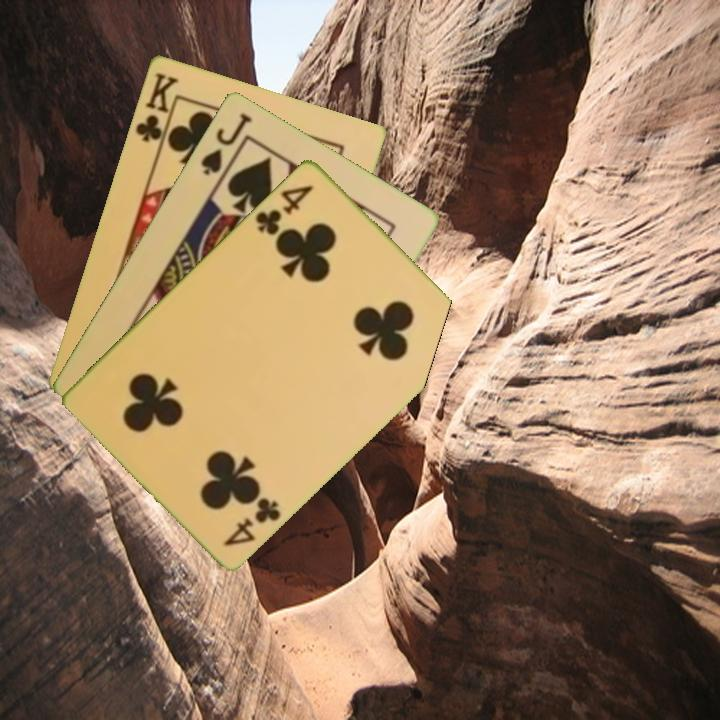4c: (251, 180, 316, 238), (220, 493, 284, 549)
Js: (197, 108, 255, 178)
Kc: (131, 68, 182, 152)
